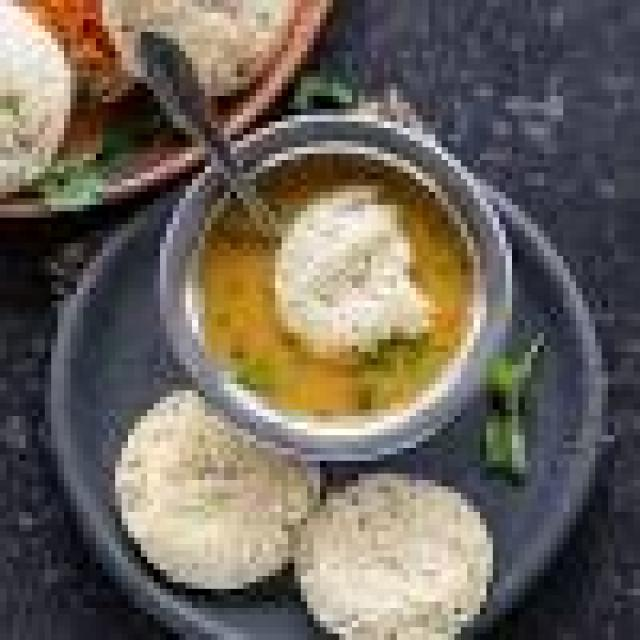Wet Waste: (109, 378, 301, 582), (282, 461, 486, 634), (268, 179, 442, 371), (0, 0, 102, 198)
